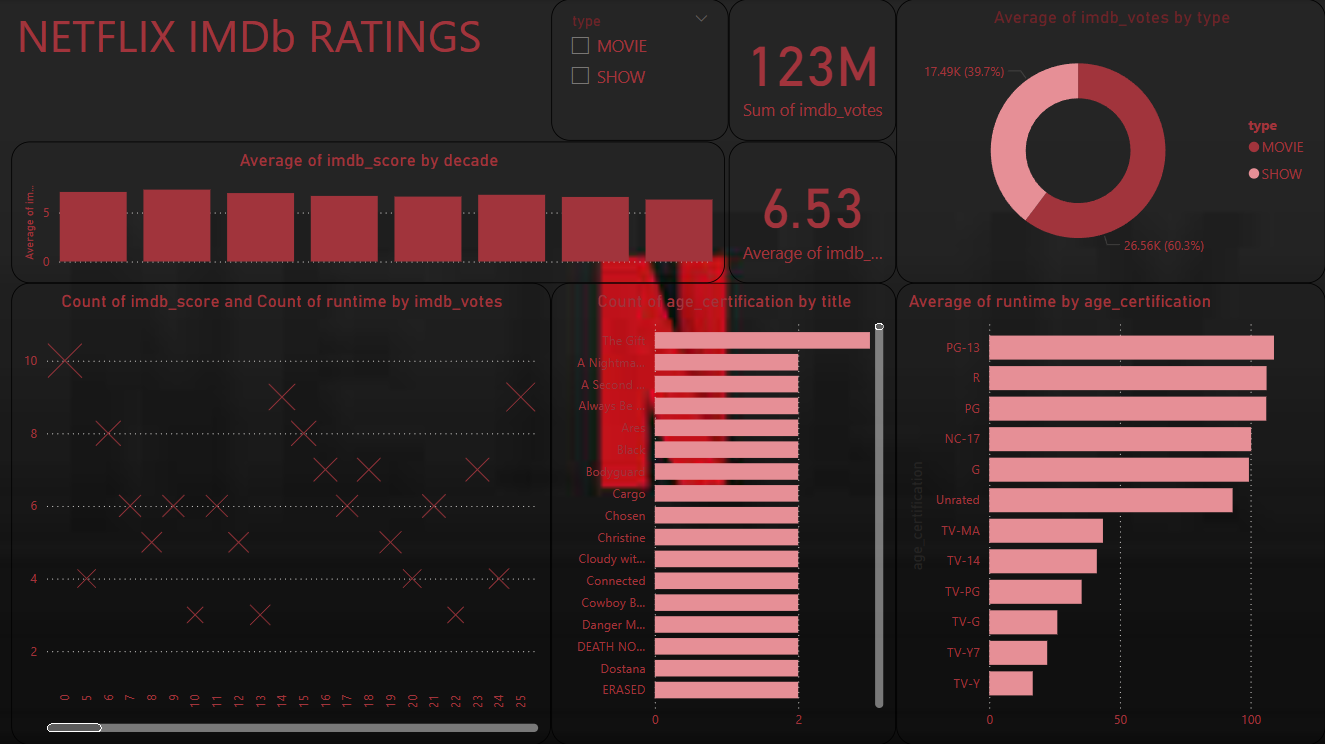

What the dashboard file says about the page in this screenshot:
{"tool":"powerbi","page":{"name":"Page 1","canvas":[1280,720],"ordinal":0},"visuals":[{"type":"textbox","box":[10.7,0,521.5,137],"z":0},{"type":"card","fields":{"Values":["Avg(Cleaned_Netflix_IMDB.imdb_score)"]},"box":[703,137,162,137],"z":1},{"type":"card","fields":{"Values":["Sum(Cleaned_Netflix_IMDB.imdb_votes)"]},"box":[703,0,162,137],"z":2},{"type":"donutChart","fields":{"Category":["Cleaned_Netflix_IMDB.type"],"Y":["Avg(Cleaned_Netflix_IMDB.imdb_votes)"]},"box":[865,0,414.7,274.1],"z":3},{"type":"barChart","fields":{"Y":["CountNonNull(Cleaned_Netflix_IMDB.age_certification)"],"Category":["Cleaned_Netflix_IMDB.title"]},"box":[532.2,274.1,332.8,446.7],"z":4},{"type":"barChart","fields":{"Y":["Avg(Cleaned_Netflix_IMDB.runtime)"],"Category":["Cleaned_Netflix_IMDB.age_certification"]},"box":[865,274.1,414.7,446.7],"z":5},{"type":"slicer","fields":{"Values":["Cleaned_Netflix_IMDB.type"]},"box":[532.2,0,170.9,137],"z":6},{"type":"clusteredColumnChart","fields":{"Category":["Cleaned_Netflix_IMDB.decade"],"Y":["Avg(Cleaned_Netflix_IMDB.imdb_score)"]},"box":[10.7,137,688.8,137],"z":7},{"type":"scatterChart","fields":{"X":["Cleaned_Netflix_IMDB.imdb_votes"],"Y":["Count(Cleaned_Netflix_IMDB.imdb_score)"],"Size":["CountNonNull(Cleaned_Netflix_IMDB.runtime)"]},"box":[11,274,521,446],"z":8}]}

Visuals, with their boxes in screenshot pixels (x1, y1, x2, y2), scaled from the page's 1280x720 canvas onto the 1325x744 screenshot:
textbox: [left=11, top=0, right=551, bottom=142]
card - Avg(Cleaned_Netflix_IMDB.imdb_score): [left=728, top=142, right=895, bottom=283]
card - Sum(Cleaned_Netflix_IMDB.imdb_votes): [left=728, top=0, right=895, bottom=142]
donutChart - Cleaned_Netflix_IMDB.type x Avg(Cleaned_Netflix_IMDB.imdb_votes): [left=895, top=0, right=1324, bottom=283]
barChart - CountNonNull(Cleaned_Netflix_IMDB.age_certification) x Cleaned_Netflix_IMDB.title: [left=551, top=283, right=895, bottom=743]
barChart - Avg(Cleaned_Netflix_IMDB.runtime) x Cleaned_Netflix_IMDB.age_certification: [left=895, top=283, right=1324, bottom=743]
slicer - Cleaned_Netflix_IMDB.type: [left=551, top=0, right=728, bottom=142]
clusteredColumnChart - Cleaned_Netflix_IMDB.decade x Avg(Cleaned_Netflix_IMDB.imdb_score): [left=11, top=142, right=724, bottom=283]
scatterChart - Cleaned_Netflix_IMDB.imdb_votes x Count(Cleaned_Netflix_IMDB.imdb_score): [left=11, top=283, right=551, bottom=743]
